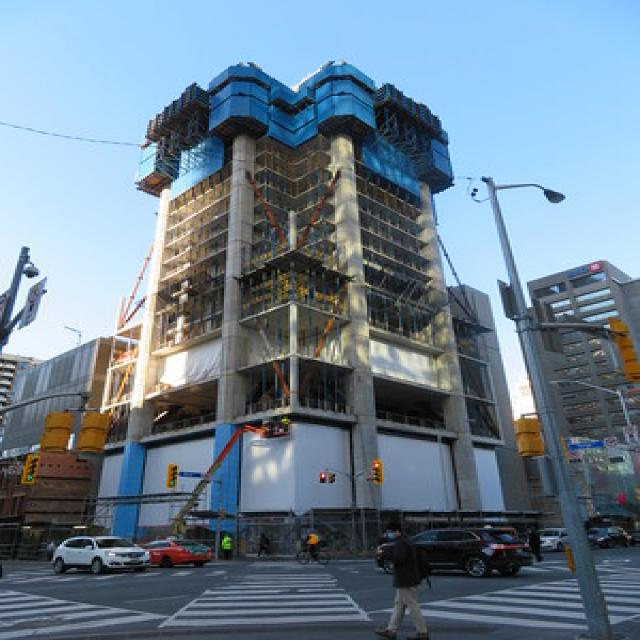Normal_building: (120, 54, 503, 575)
